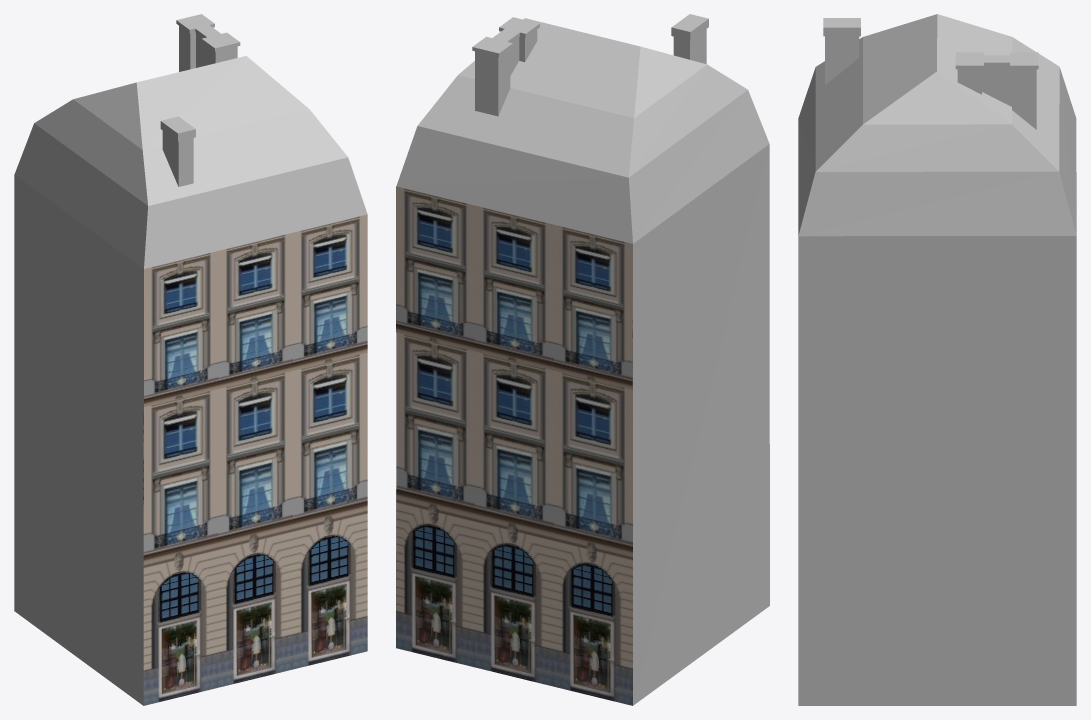
Rendered from LOD01_Builiding_ParisLux.obj.
3 views of the same model, side by side, from view 1: azimuth 30°, elevation 25°; view 2: azimuth 150°, elevation 25°; view 3: azimuth 270°, elevation 25° (orthographic). The views are drawn at different scales.
Parts seen in each view (by area): view 1: LOD01_Builiding_ParisLux; view 2: LOD01_Builiding_ParisLux; view 3: LOD01_Builiding_ParisLux.
Part boxes in pixels (box(x1,y1,x2,y2)): LOD01_Builiding_ParisLux: box(14, 14, 367, 705); LOD01_Builiding_ParisLux: box(396, 14, 769, 705); LOD01_Builiding_ParisLux: box(798, 14, 1076, 705).
Size of the model in its own units: 3.9 by 9.46 by 3.9.
